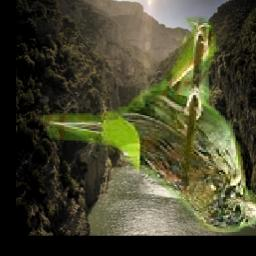Sparrow: (43, 17, 256, 232)
